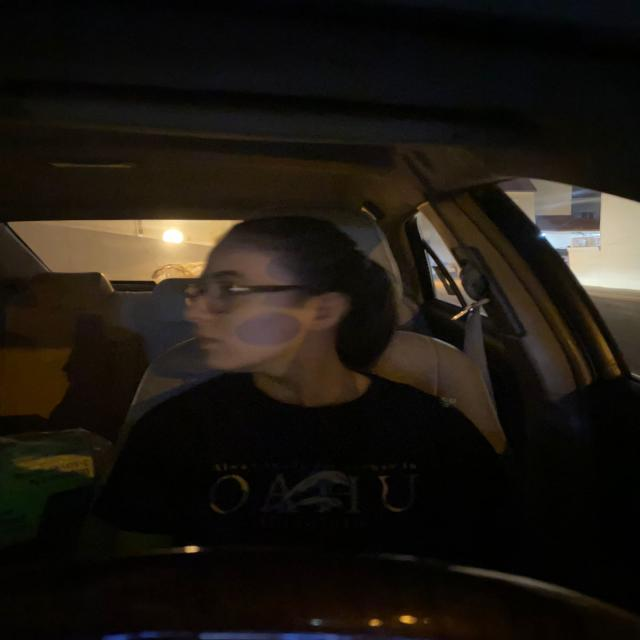LeftRight: (182, 213, 366, 394)
